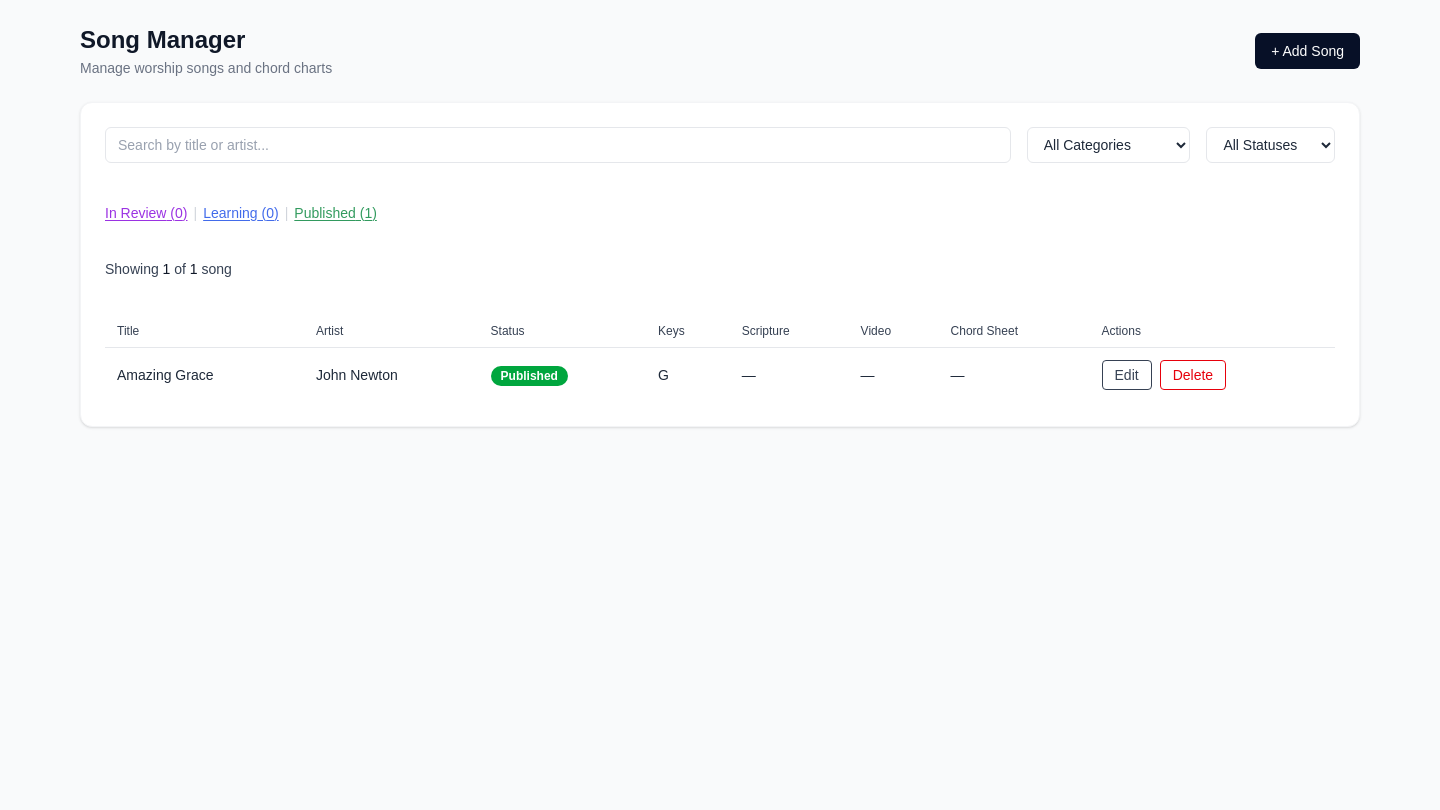
Test case: Journey: Admin can manage songs › Admin: can open Add Song form with required fields
This screenshot has width=1440, height=810.
Expected: the text "Amazing Grace" is shown, top-left (105, 348), bottom-right (304, 402)
Click the button "+ Add Song" at (1308,51), box top-left (1255, 33), bottom-right (1360, 69)
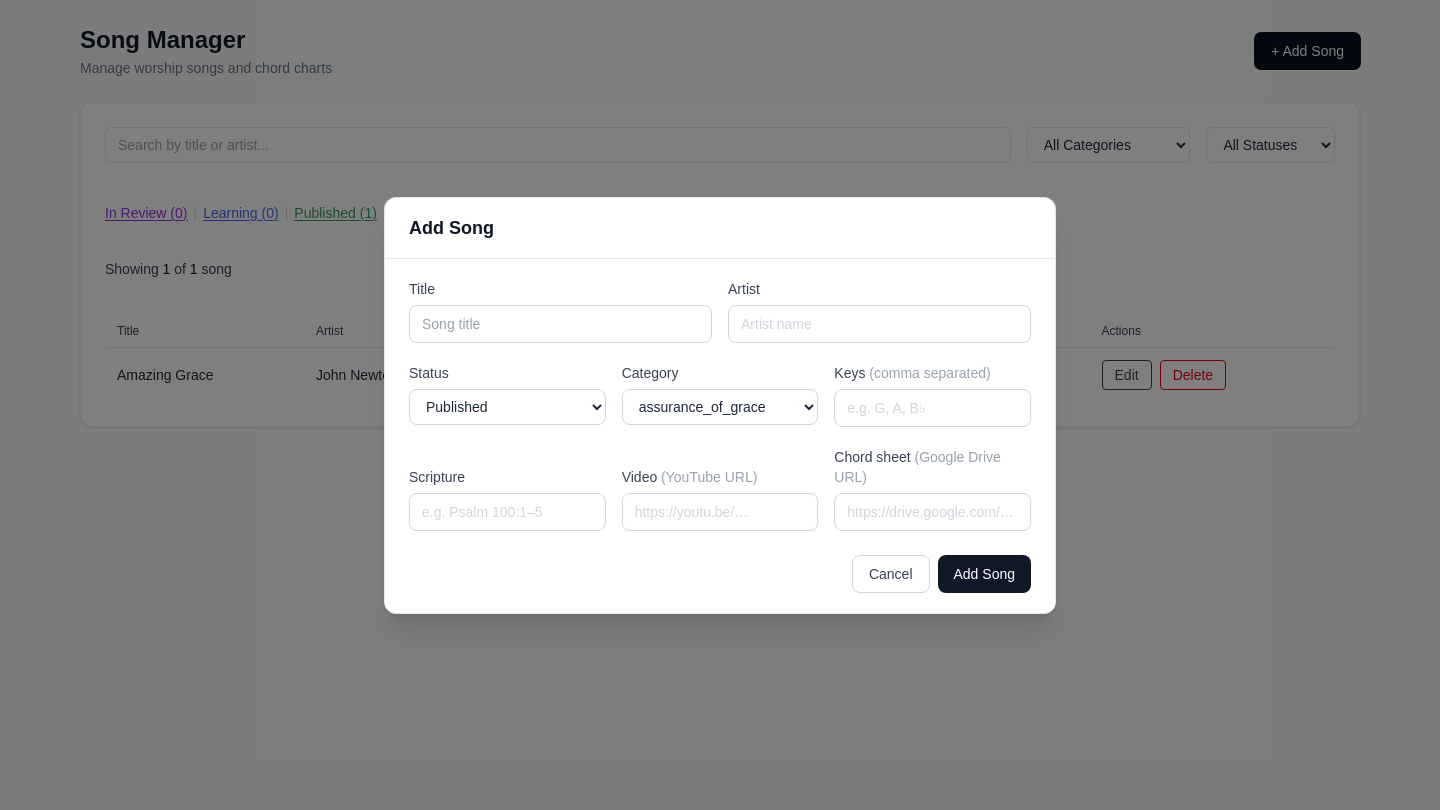
Now the field with placeholder "Song title" is shown, box top-left (409, 304), bottom-right (712, 342)
Now the field with placeholder "Artist name" is shown, box top-left (728, 304), bottom-right (1031, 342)
Now the button "Cancel" is shown, box top-left (852, 554), bottom-right (930, 592)
